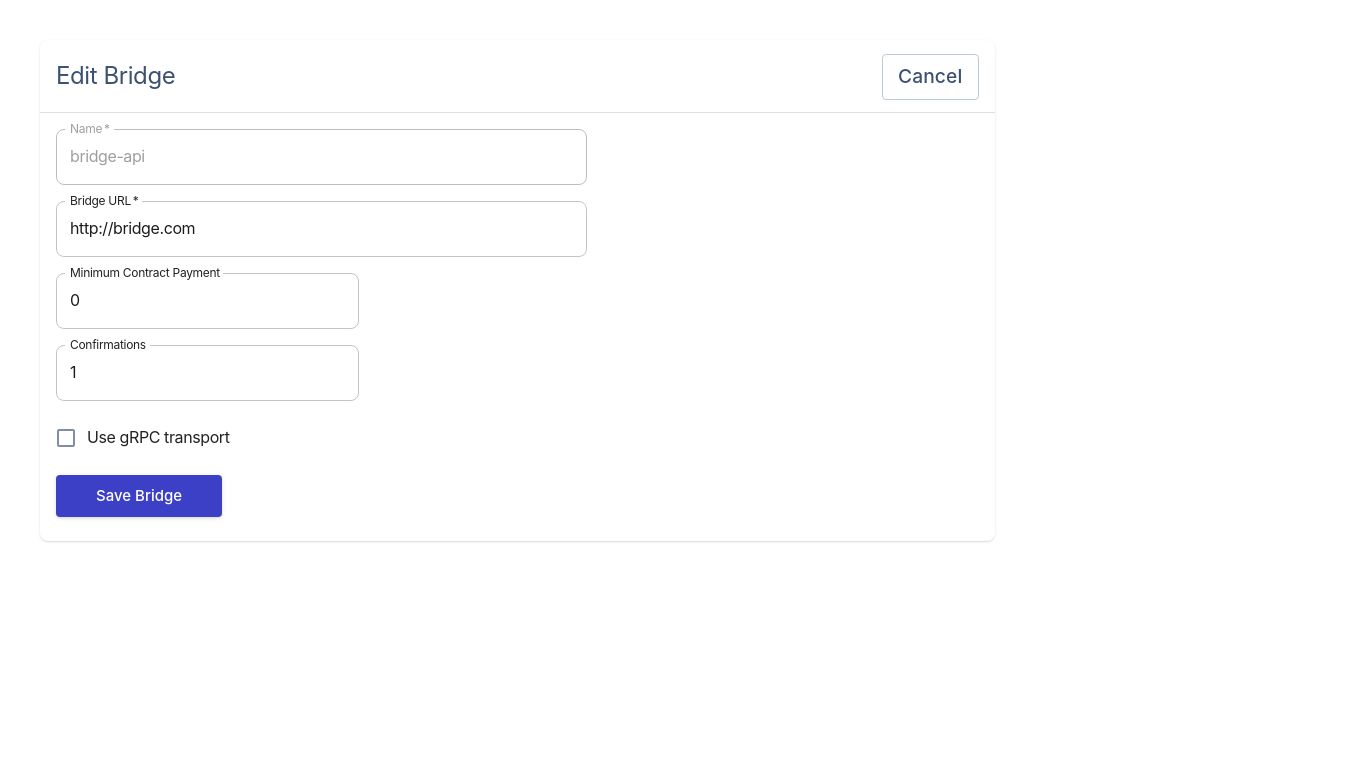
Scenario: EditBridgeScreen › handles a not found error from update
Click the button "Save Bridge": (139, 496) [56, 475, 222, 517]
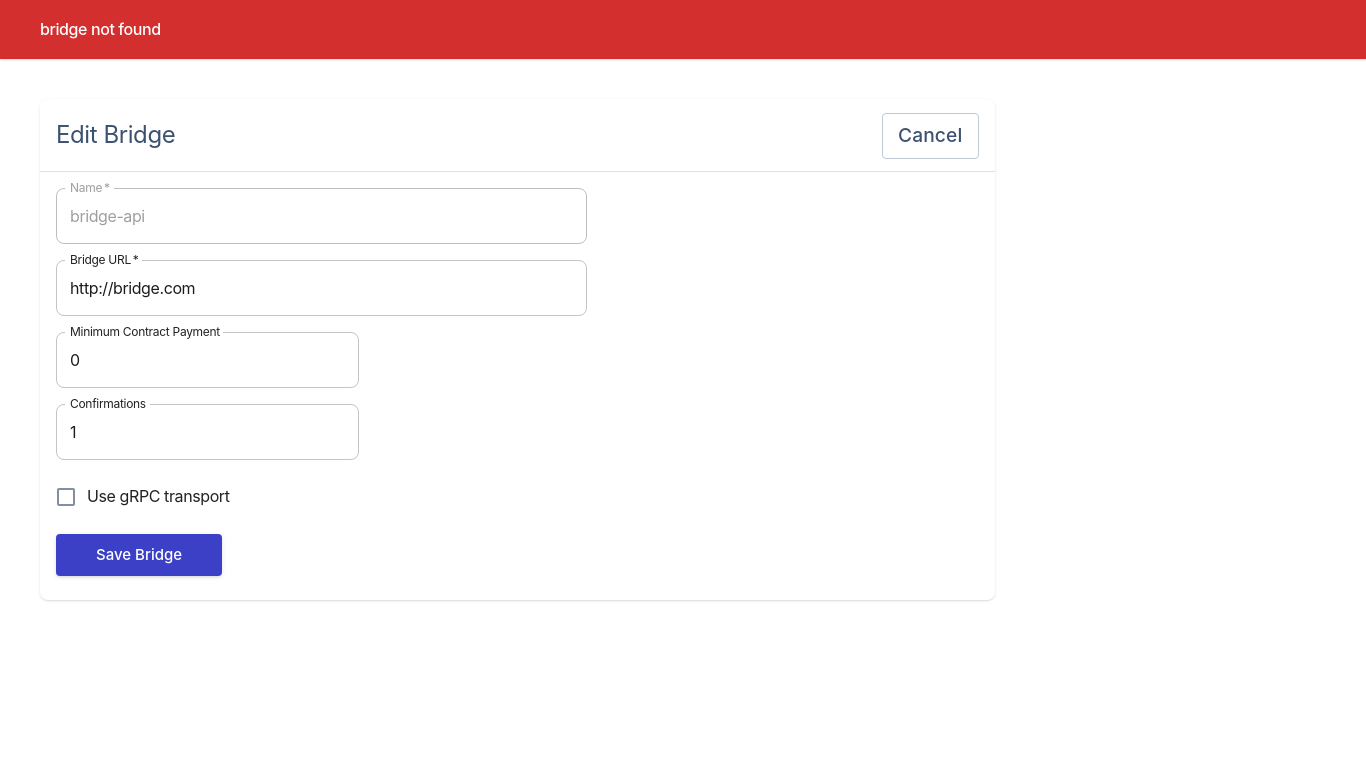
Expected: the text "bridge not found" is shown, [40, 19, 161, 39]
